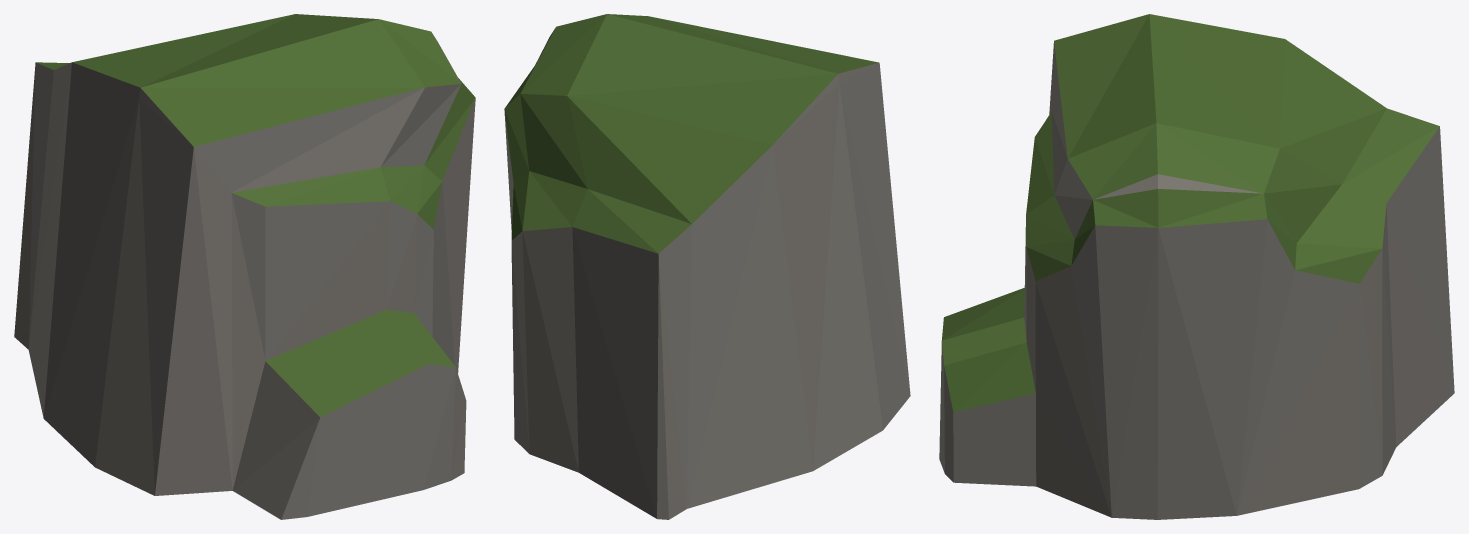
The model's file is boulder_2.glb.
3 renders of one model, left to right at view 1: azimuth 30°, elevation 25°; view 2: azimuth 150°, elevation 25°; view 3: azimuth 270°, elevation 25°, orthographic. The views are drawn at different scales.
Visible parts, largest first — view 1: lod0; view 2: lod0; view 3: lod0.
Part boxes in pixels (bbox=[...]): lod0: bbox=[14, 14, 475, 519]; lod0: bbox=[504, 14, 910, 519]; lod0: bbox=[939, 14, 1454, 519].
Size of what is drawn, in the model's own units: 3.29 by 3.25 by 4.12.
